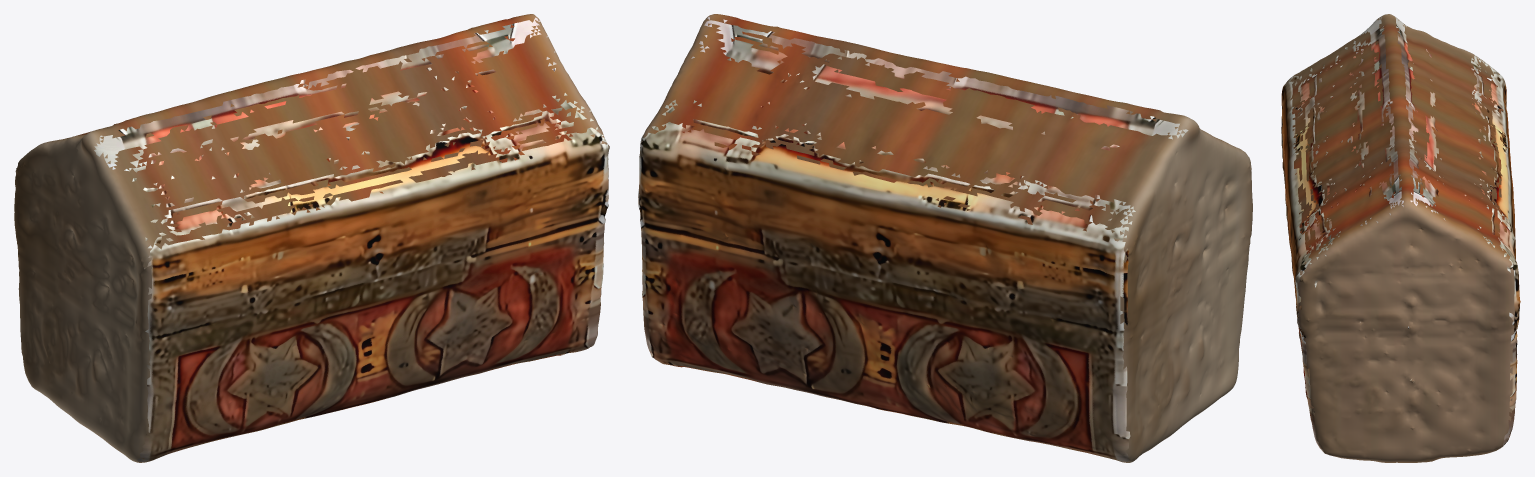
Rendered from kfl-2303.glb.
3 renders of one model, left to right at view 1: azimuth 30°, elevation 25°; view 2: azimuth 150°, elevation 25°; view 3: azimuth 270°, elevation 25°, orthographic. The views are drawn at different scales.
Parts seen in each view (by area): view 1: kfl-2303; view 2: kfl-2303; view 3: kfl-2303.
Part boxes in pixels (x1,y1,x2,y2): kfl-2303: (14, 14, 609, 462); kfl-2303: (638, 14, 1252, 462); kfl-2303: (1281, 14, 1520, 462).
Size of the model in its own units: 0.9935 by 0.6278 by 0.5117.
Materials: 4 (4 with a texture image).
